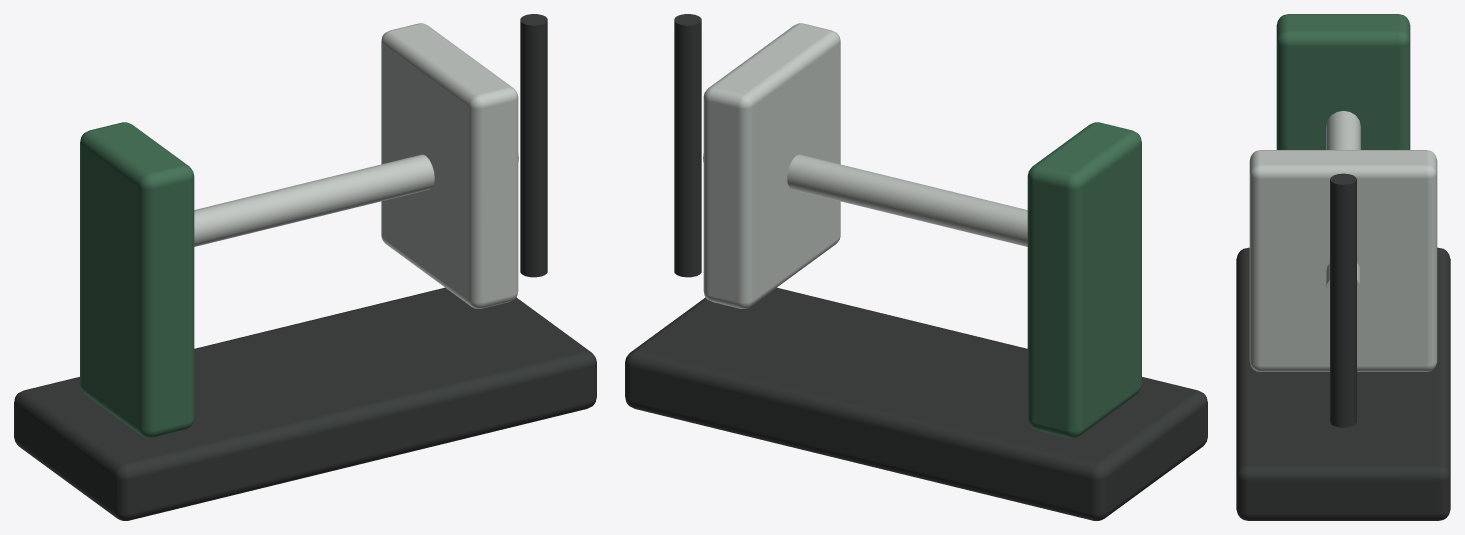
Rendered from sawmill-and-timber-yard-log-clamp-787146cb__31165.glb.
3 renders of one model, left to right at view 1: azimuth 30°, elevation 25°; view 2: azimuth 150°, elevation 25°; view 3: azimuth 270°, elevation 25°, orthographic. The views are drawn at different scales.
Parts seen in each view (by area): view 1: log-clamp; view 2: log-clamp; view 3: log-clamp.
Part boxes in pixels (x1,y1,x2,y2): log-clamp: (14, 14, 596, 520); log-clamp: (625, 14, 1207, 520); log-clamp: (1236, 14, 1450, 520).
Bounding box in the file's own units: 0.4 × 0.28 × 0.16.
